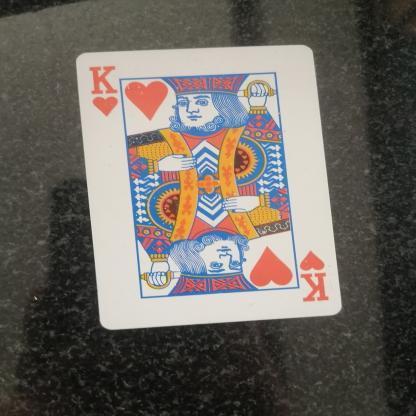KH: (84, 57, 129, 128), (295, 241, 337, 312)
